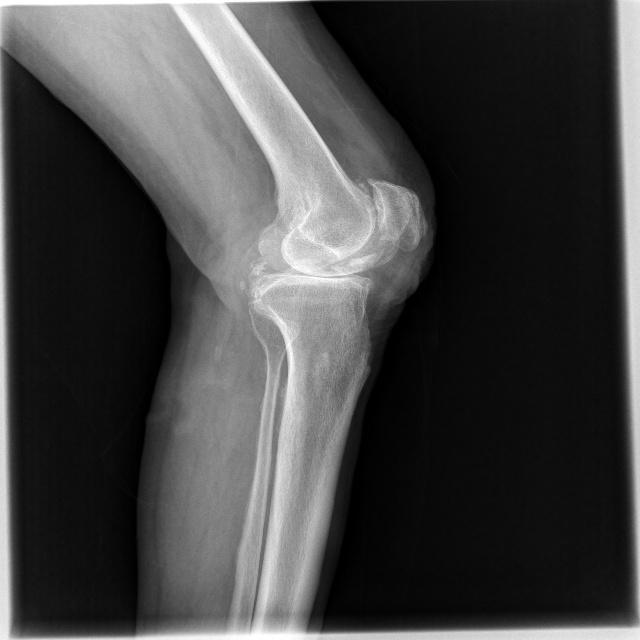Knee: (237, 175, 434, 368)
